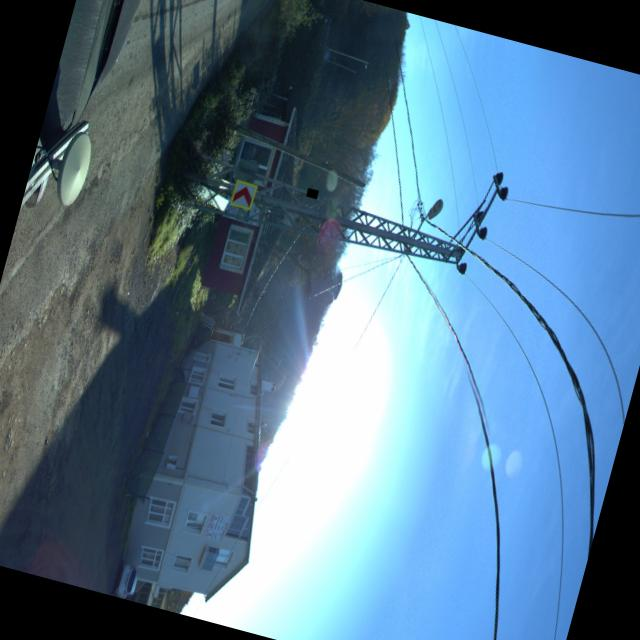Utility Pole Information Plate: (304, 188, 317, 199)
